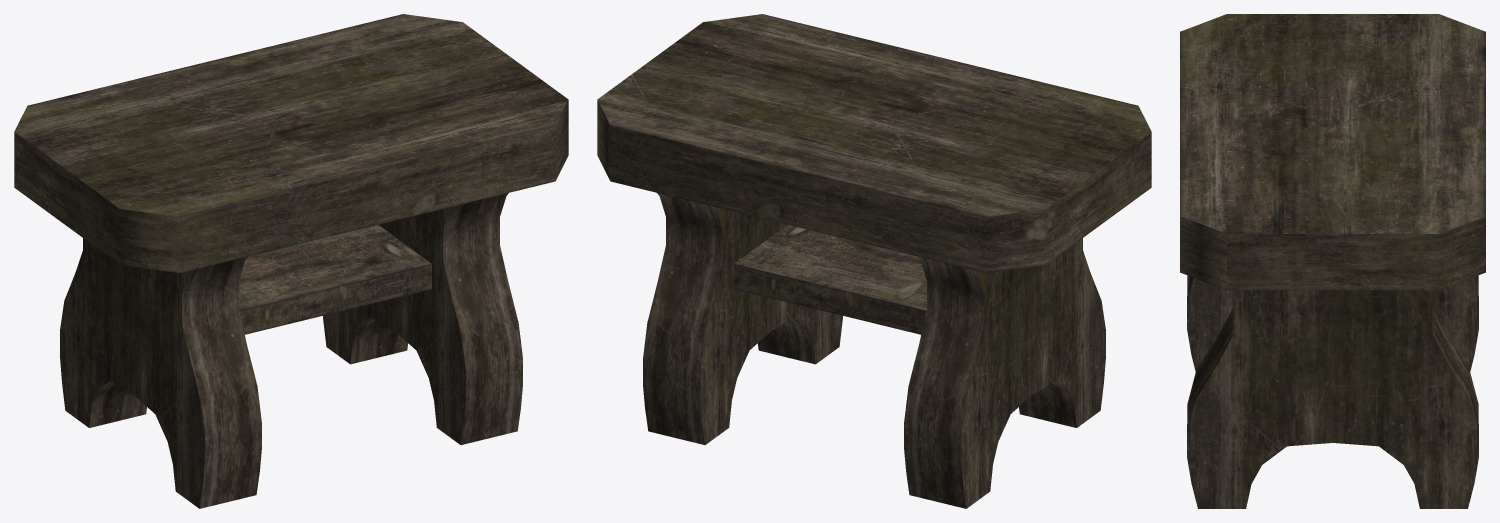
The model's file is Stool.fbx.
3 views of the same model, side by side, from view 1: azimuth 30°, elevation 25°; view 2: azimuth 150°, elevation 25°; view 3: azimuth 270°, elevation 25° (orthographic).
Parts seen in each view (by area): view 1: Stool; view 2: Stool; view 3: Stool.
Part boxes in pixels (x1,y1,x2,y2): Stool: (14, 14, 568, 508); Stool: (597, 14, 1151, 508); Stool: (1180, 14, 1485, 508).
Bounding box in the file's own units: 74.59 × 48.53 × 43.84.
